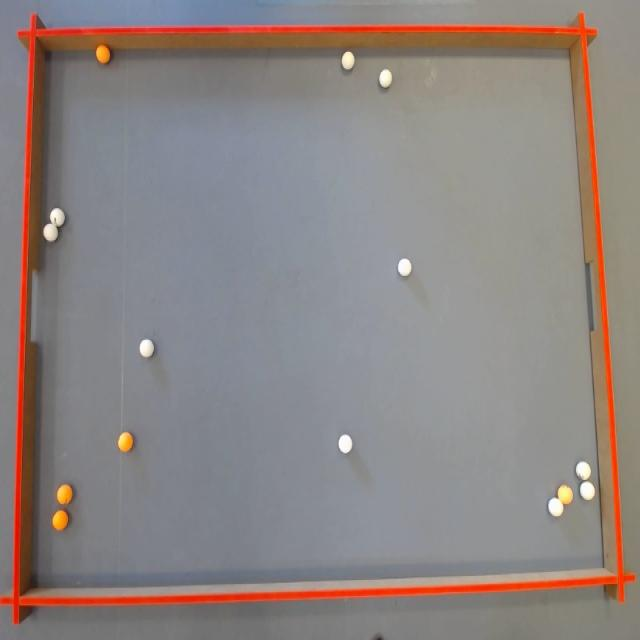orange_ball: (52, 510, 69, 531), (56, 484, 72, 505), (118, 432, 133, 452), (96, 44, 110, 64), (558, 485, 572, 504)
white_ball: (580, 481, 596, 501), (548, 497, 564, 517), (50, 208, 65, 228), (139, 339, 154, 358), (43, 223, 58, 242), (338, 434, 352, 454), (576, 461, 590, 481), (379, 69, 392, 88), (398, 258, 411, 276), (342, 51, 354, 70)
